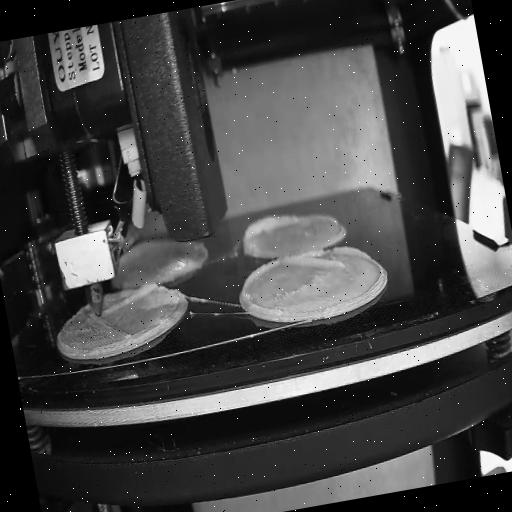over_extrusion: (280, 238, 373, 282), (236, 257, 286, 322), (240, 208, 302, 246), (100, 278, 161, 316)
